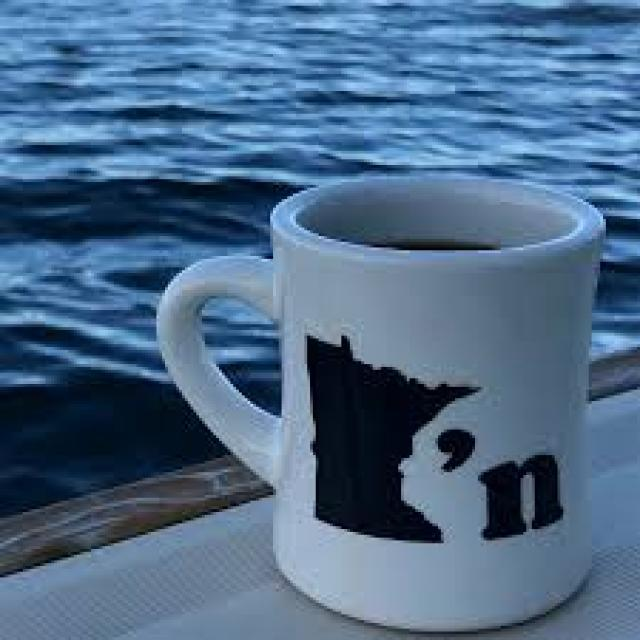taza: (155, 170, 609, 632)
